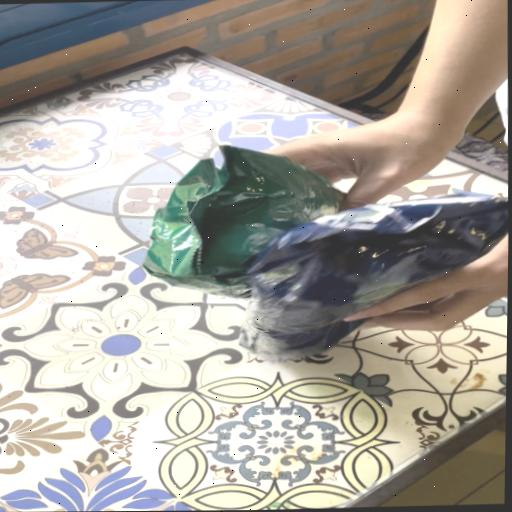cafe_hat: (240, 194, 508, 358)
cafe_xay: (144, 146, 343, 298)
